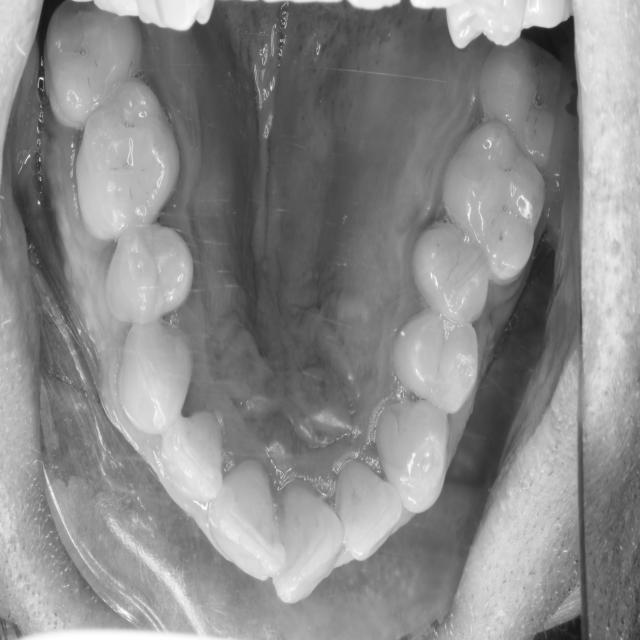tooth: (65, 68, 190, 244), (441, 108, 549, 288), (40, 0, 153, 140), (476, 34, 569, 183), (387, 295, 486, 427), (206, 442, 291, 592), (112, 310, 202, 450), (259, 473, 346, 616), (373, 391, 461, 526), (407, 205, 495, 339), (105, 214, 200, 335), (327, 443, 409, 579), (161, 401, 236, 522)
